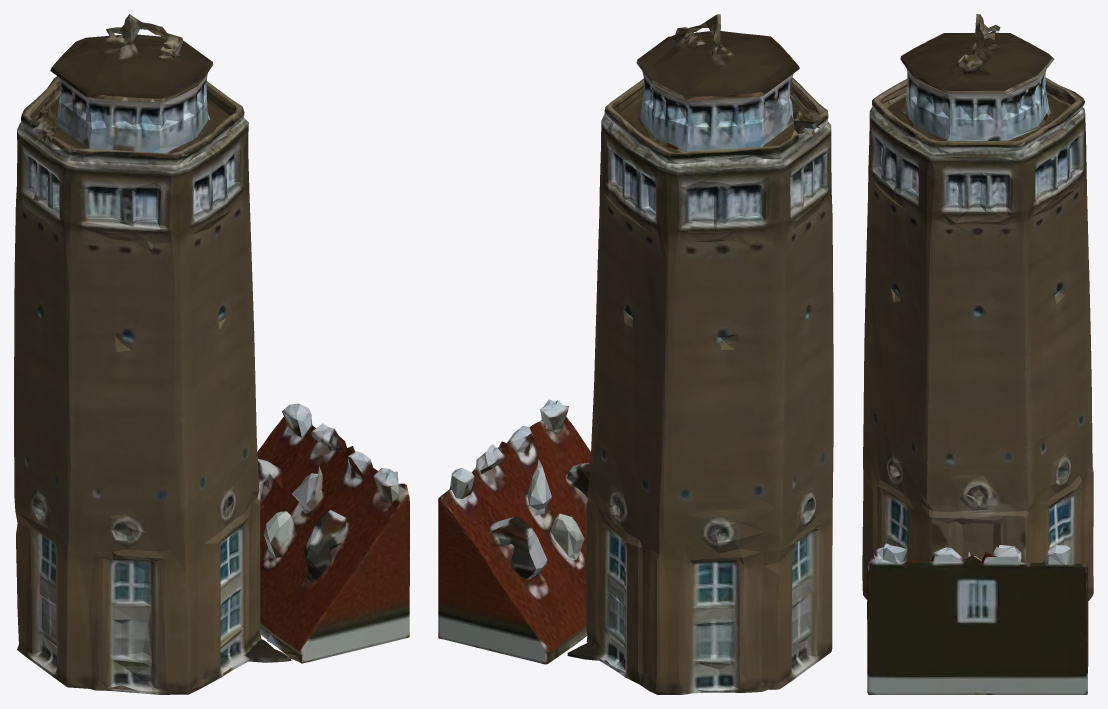
The model's file is faro_zandvoort.glb.
The picture shows the model from 3 angles, left to right: view 1: azimuth 30°, elevation 25°; view 2: azimuth 150°, elevation 25°; view 3: azimuth 270°, elevation 25°; orthographic projection. The views are drawn at different scales.
Visible parts, largest first — view 1: tmpyrky1yym.ply; view 2: tmpyrky1yym.ply; view 3: tmpyrky1yym.ply.
Boxes of the visible parts, left/top/right/bottom form: tmpyrky1yym.ply: left=14, top=14, right=409, bottom=694; tmpyrky1yym.ply: left=438, top=14, right=833, bottom=694; tmpyrky1yym.ply: left=862, top=14, right=1093, bottom=694.
Size of the model in its own units: 1.05 by 1.98 by 0.7131.
Materials: 1 (1 with a texture image).
